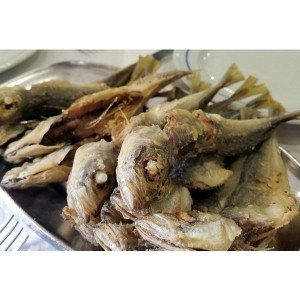sardine_brain food: (21, 89, 237, 231)
